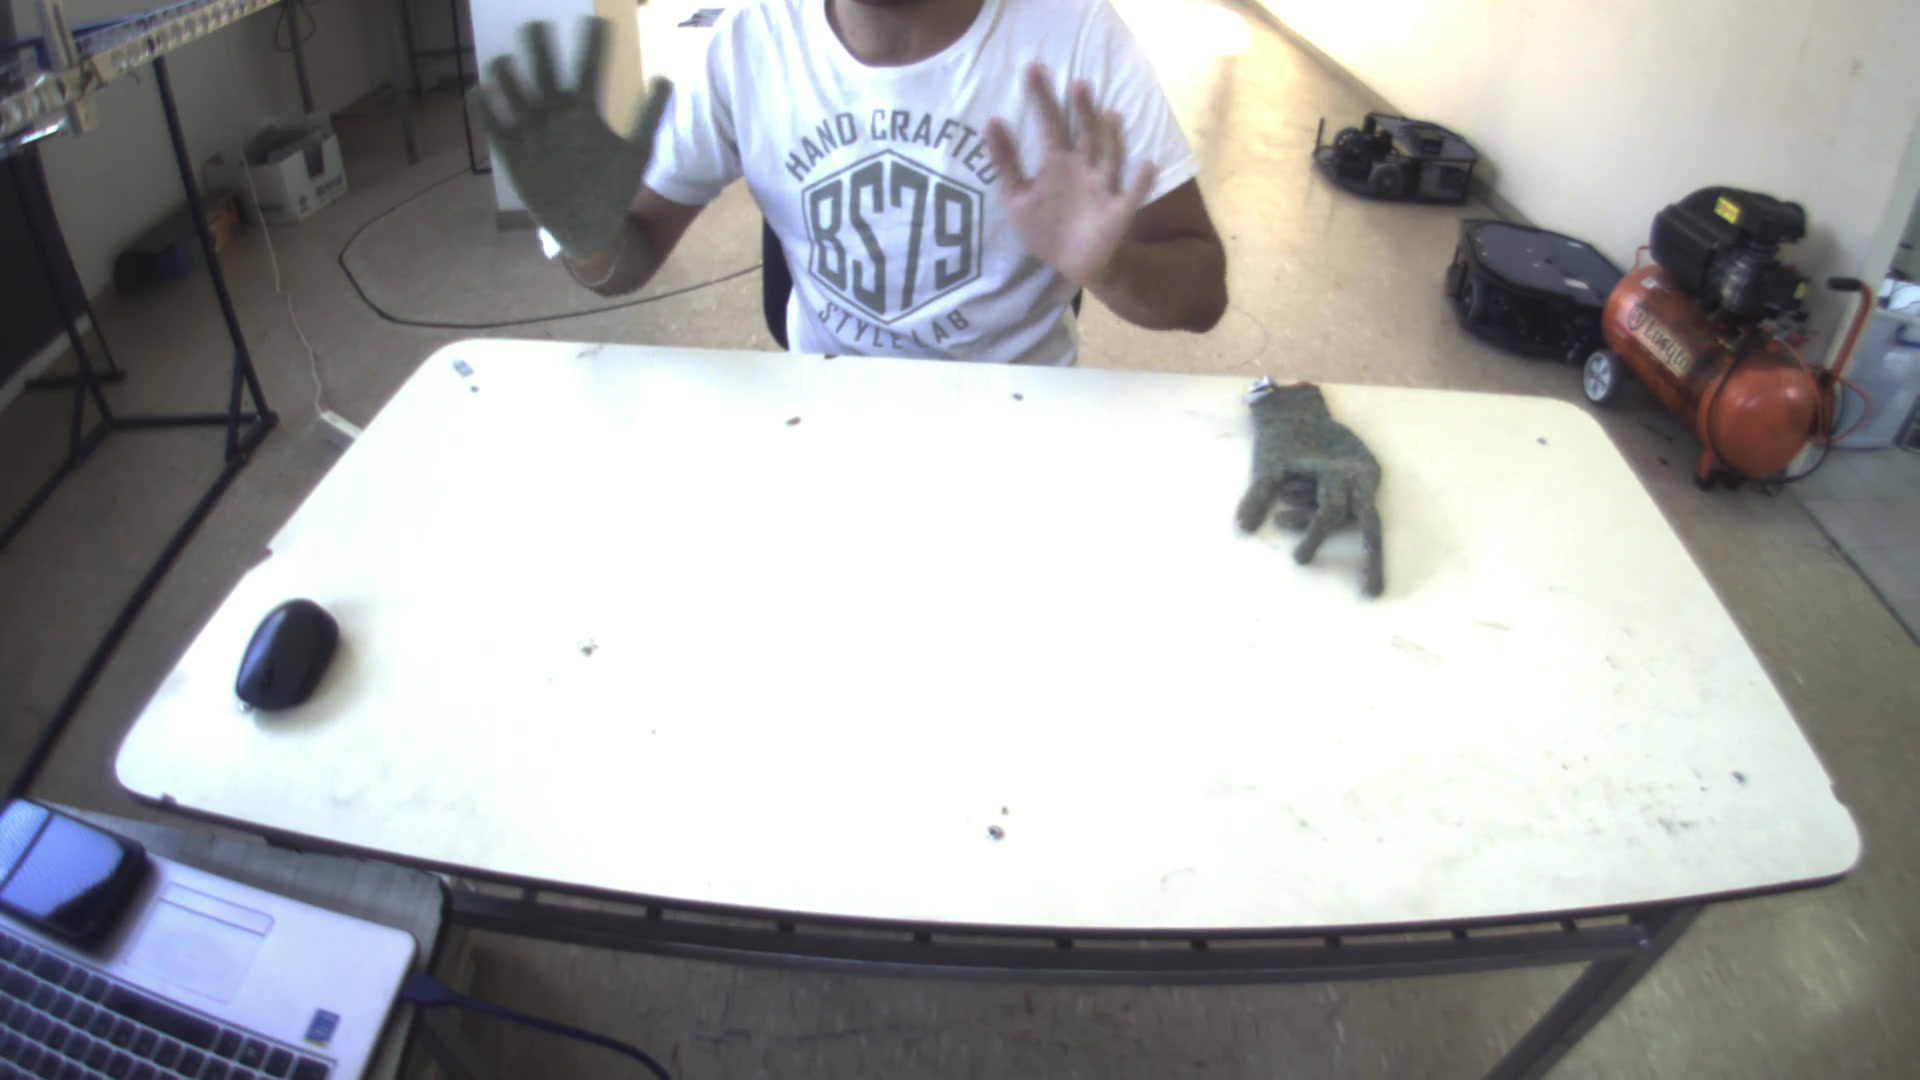hand: (462, 29, 667, 260), (975, 65, 1156, 276)
